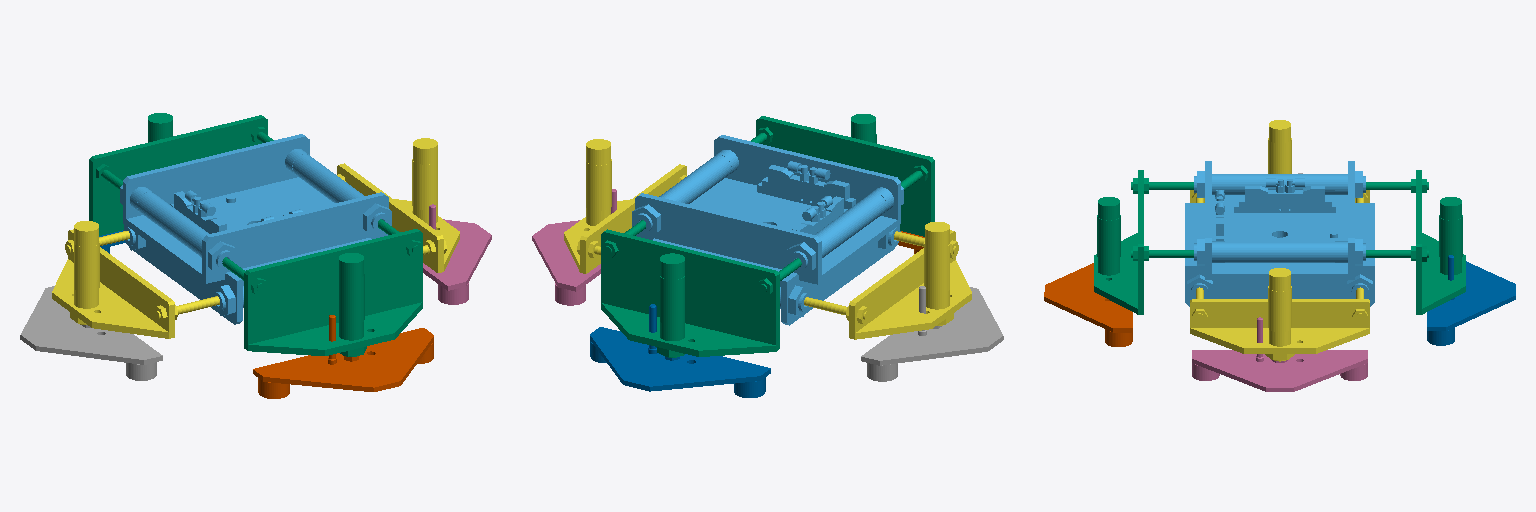
robot.urdf — vertical_robot:
<?xml version="1.0" ?>
<robot name="vertical_robot" xmlns:xacro="http://ros.org/wiki/xacro">

  <material name="dark">
    <color rgba="0.3 0.3 0.3 1.0"/>
  </material>
  
  <link name="world"/>

  <joint name="world_joint" type="fixed">
    <parent link="world"/>
    <child link="base_link"/>
  </joint>

  <link name="base_link">
    <visual>
      <origin xyz="0 0 0.0" rpy="0 0 0"/>
      <geometry>
        <mesh filename="package://vertical_robot_model/meshes/base.stl" scale="0.001 0.001 0.001"/>
      </geometry>
    </visual>
  </link>
  
  <joint name="joint_1" type="prismatic">
    <parent link="base_link"/>
    <child link="link_1"/>
    <origin xyz="0.0 0.0 0.024" rpy="0 0 0"/>
    <limit effort="30" velocity="1.0" lower="-0.05" upper="0.05" />
    <axis xyz="0 1 0"/>
  </joint>

  <link name="link_1">
    <visual>
      <origin xyz="0 0 0.0" rpy="0 0 0"/>
      <geometry>
        <mesh filename="package://vertical_robot_model/meshes/link1.stl" scale="0.001 0.001 0.001"/>
      </geometry>
    </visual>
  </link>
  
  <joint name="joint_2" type="prismatic">
    <parent link="base_link"/>
    <child link="link_2"/>
    <origin xyz="0.0 0.0 -0.024" rpy="0 0 0"/>
    <limit effort="30" velocity="1.0" lower="-0.05" upper="0.05" />
    <axis xyz="1 0 0"/>
  </joint>

  <link name="link_2">
    <visual>
      <origin xyz="0 0 0" rpy="0 0 0"/>
      <geometry>
        <mesh filename="package://vertical_robot_model/meshes/link2.stl" scale="0.001 0.001 0.001"/>
      </geometry>
    </visual>
  </link>
  
  <joint name="joint_1_1" type="prismatic">
    <parent link="link_1"/>
    <child link="link_3_1"/>
    <origin xyz="0.0 0.2133 -0.09" rpy="0 0 0"/>
    <limit effort="30" velocity="1.0" lower="0.0" upper="0.04" />
    <axis xyz="0 0 -1"/>
  </joint>

  <link name="link_3_1">
    <visual>
      <origin xyz="0 0 0" rpy="0 0 0"/>
      <geometry>
        <mesh filename="package://vertical_robot_model/meshes/link3.stl" scale="0.001 0.001 0.001"/>
      </geometry>
    </visual>
  </link>

  <joint name="joint_1_2" type="prismatic">
    <parent link="link_1"/>
    <child link="link_3_2"/>
    <origin xyz="0.0 -0.2133 -0.092" rpy="0 0 3.14"/>
    <limit effort="30" velocity="1.0" lower="0.0" upper="0.04" />
    <mimic joint="joint_1_1" offset="0.0" multiplier="1"/>
    <axis xyz="0 0 -1"/>
  </joint>

  <link name="link_3_2">
    <visual>
      <origin xyz="0 0 0" rpy="0 0 0"/>
      <geometry>
        <mesh filename="package://vertical_robot_model/meshes/link3.stl" scale="0.001 0.001 0.001"/>
      </geometry>
    </visual>
  </link>
  
  <joint name="joint_2_1" type="prismatic">
    <parent link="link_2"/>
    <child link="link_3_3"/>
    <origin xyz="0.2133 0.0 -0.04" rpy="0 0 -1.57"/>
    <limit effort="30" velocity="1.0" lower="0.0" upper="0.04" />
    <axis xyz="0 0 -1"/>
  </joint>

  <link name="link_3_3">
    <visual>
      <origin xyz="0 0 0" rpy="0 0 0"/>
      <geometry>
        <mesh filename="package://vertical_robot_model/meshes/link3.stl" scale="0.001 0.001 0.001"/>
      </geometry>
    </visual>
  </link>
  
  <joint name="joint_2_2" type="prismatic">
    <parent link="link_2"/>
    <child link="link_3_4"/>
    <origin xyz="-0.2133 0.0 -0.04" rpy="0 0 1.57"/>
    <limit effort="30" velocity="1.0" lower="0.0" upper="0.04" />
    <mimic joint="joint_2_1" offset="0.0" multiplier="1"/>
    <axis xyz="0 0 -1"/>
  </joint>

  <link name="link_3_4">
    <visual>
      <origin xyz="0 0 0" rpy="0 0 0"/>
      <geometry>
        <mesh filename="package://vertical_robot_model/meshes/link3.stl" scale="0.001 0.001 0.001"/>
      </geometry>
    </visual>
  </link>

</robot>

--- Render facts (derived) ---
Views: 3 orthographic renders of the robot side by side, from view 1: azimuth 30°, elevation 25°; view 2: azimuth 150°, elevation 25°; view 3: azimuth 270°, elevation 25°.
Model vertical_robot with 8 links and 7 joints (6 prismatic, 1 fixed), rooted at world, posed all joints at 0.
Links seen in each view (by area): view 1: base_link, link_1, link_2, link_3_2, link_3_4, link_3_3; view 2: base_link, link_1, link_2, link_3_1, link_3_4, link_3_3; view 3: base_link, link_2, link_1, link_3_3, link_3_1, link_3_2.
Link boxes in pixels (x1,y1,x2,y2): base_link: [120, 134, 391, 324]; link_1: [89, 113, 422, 356]; link_2: [52, 138, 459, 338]; link_3_2: [253, 315, 433, 398]; link_3_4: [20, 286, 162, 380]; link_3_3: [423, 204, 491, 304]; base_link: [632, 135, 903, 325]; link_1: [601, 114, 934, 357]; link_2: [564, 139, 971, 339]; link_3_1: [590, 304, 770, 397]; link_3_4: [861, 286, 1003, 381]; link_3_3: [532, 189, 616, 305]; base_link: [1185, 161, 1374, 306]; link_2: [1190, 120, 1369, 361]; link_1: [1094, 170, 1465, 314]; link_3_3: [1192, 317, 1367, 391]; link_3_1: [1427, 255, 1515, 345]; link_3_2: [1044, 263, 1132, 346].
Bounding box of the posed robot: 0.5866 × 0.5866 × 0.153 m (x, y, z).
Meshes: 4 distinct files referenced, 7 mesh visuals loaded (4 binary STL).